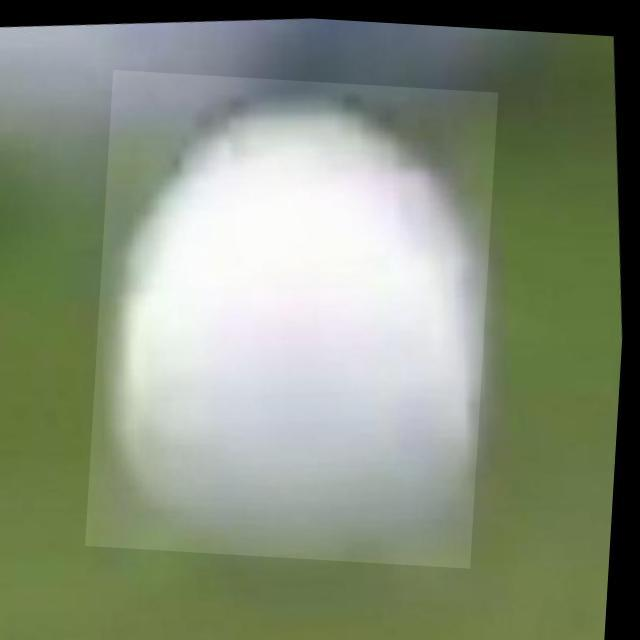-: (92, 69, 499, 562)
